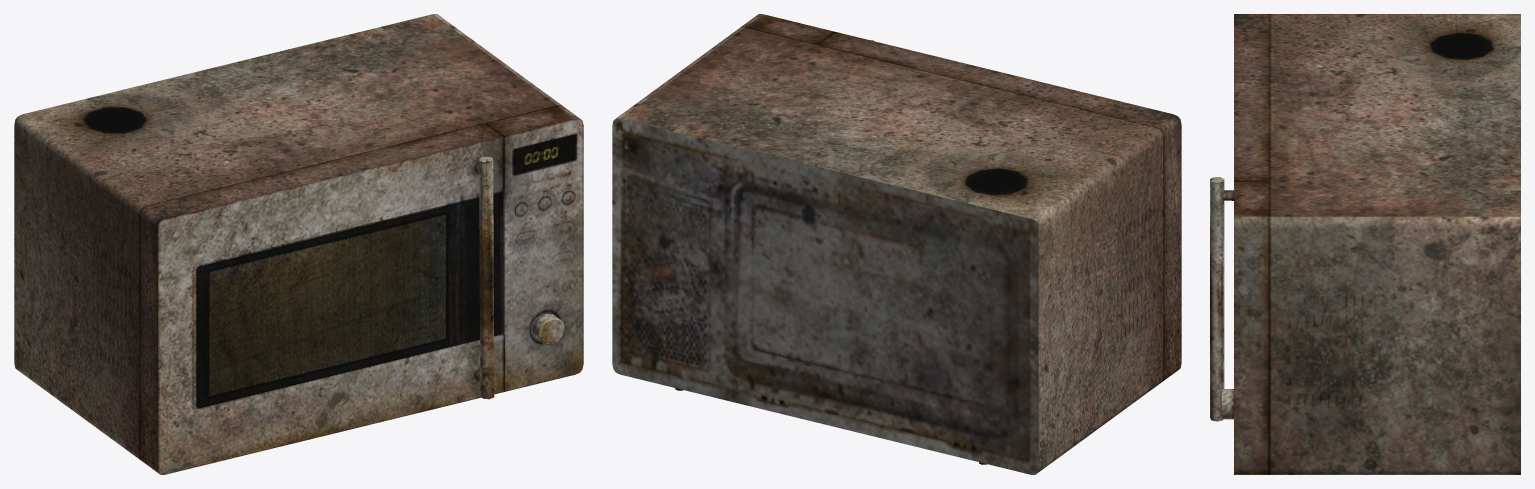
The model's file is microwave.FBX.
3 renders of one model, left to right at view 1: azimuth 30°, elevation 25°; view 2: azimuth 150°, elevation 25°; view 3: azimuth 270°, elevation 25°, orthographic.
Parts seen in each view (by area): view 1: microwave; view 2: microwave; view 3: microwave.
Boxes of the visible parts, box(x1,y1,x2,y2) form: microwave: box(14, 14, 583, 474); microwave: box(612, 14, 1181, 474); microwave: box(1210, 14, 1520, 474).
Bounding box in the file's own units: 0.5535 × 0.3258 × 0.3478.
